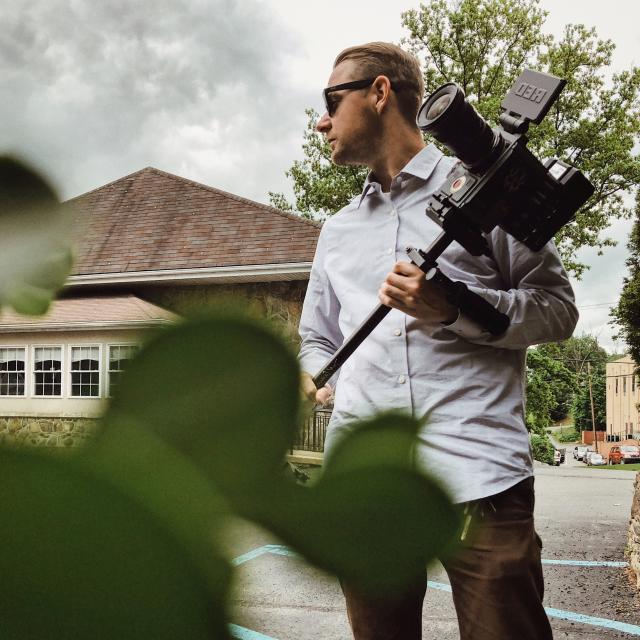adult: (297, 42, 578, 640)
